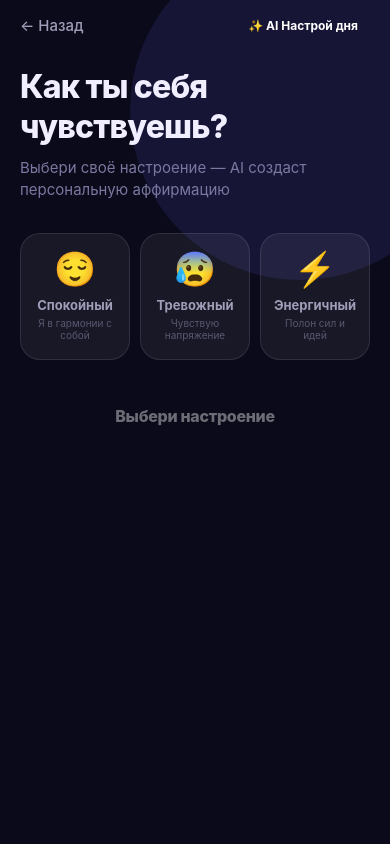
Test: AIMoodScreen › показывает карточку ошибки при неудачном запросе
What coordinates should you click on to do the following:
click the element with test id "mood-energetic"
I would click on:
 (315, 296)
Its box is left=260, top=233, right=370, bottom=360.
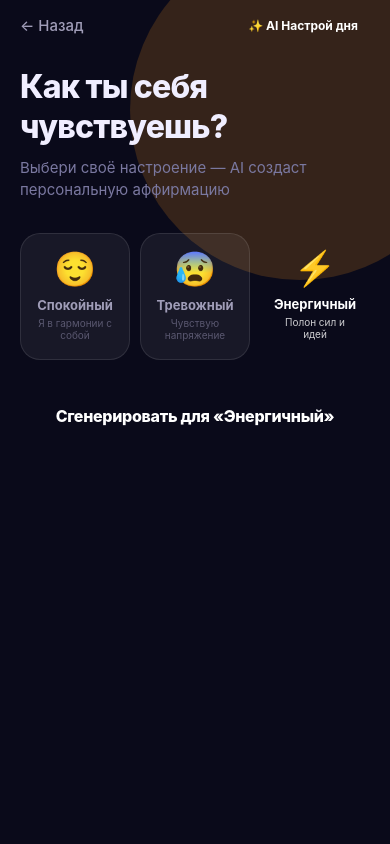
What coordinates should you click on to do the following:
click the element with test id "generate-button"
I would click on:
 (195, 416)
Its box is left=56, top=406, right=334, bottom=426.
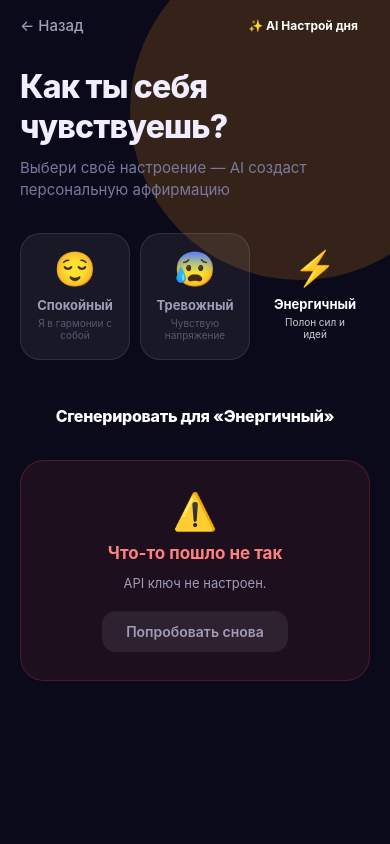
Expected: the element with test id "error-card" is shown, left=20, top=460, right=370, bottom=681
Expected: the text "API ключ не настроен." is shown, left=123, top=573, right=267, bottom=593
